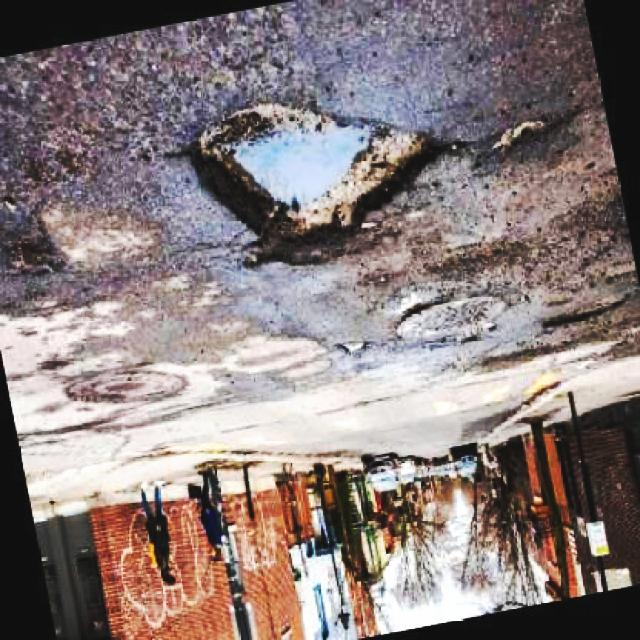pothole: (188, 91, 449, 266), (395, 288, 514, 352), (465, 109, 580, 168), (2, 196, 60, 282), (540, 291, 631, 335)
